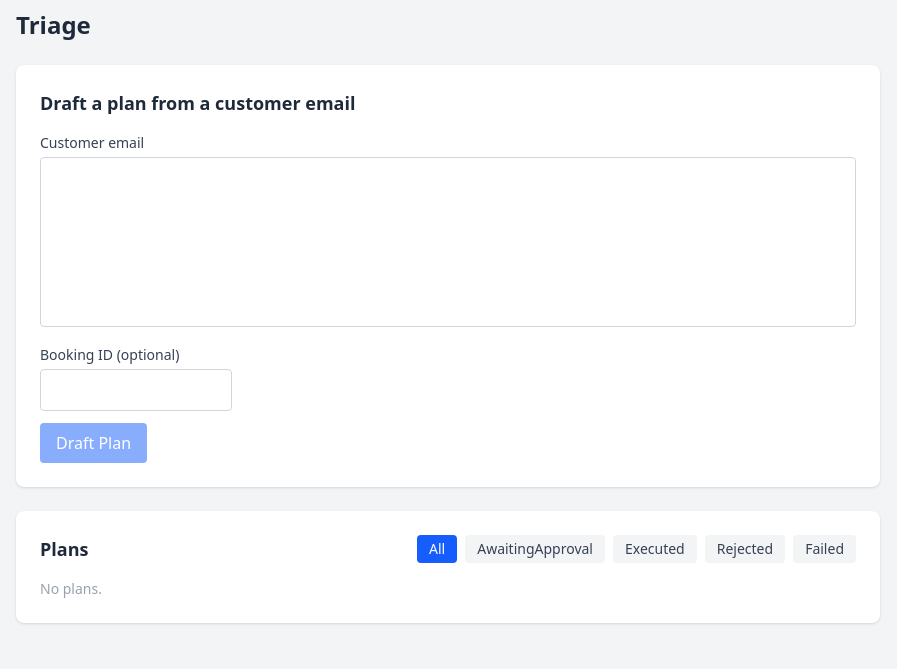
it: drafting a plan › shows an error if drafting fails
The image size is (897, 669).
In the text box labelled "Customer email": (448, 242) x1=40 y1=157 x2=856 y2=327, type "Hello"
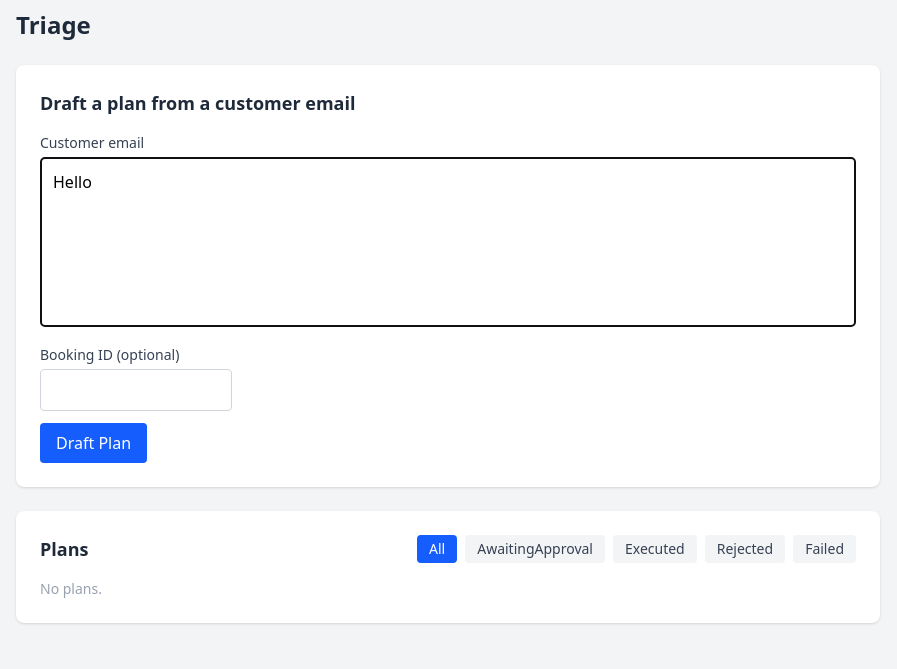
Click the button "Draft Plan": (94, 443) x1=40 y1=423 x2=147 y2=463
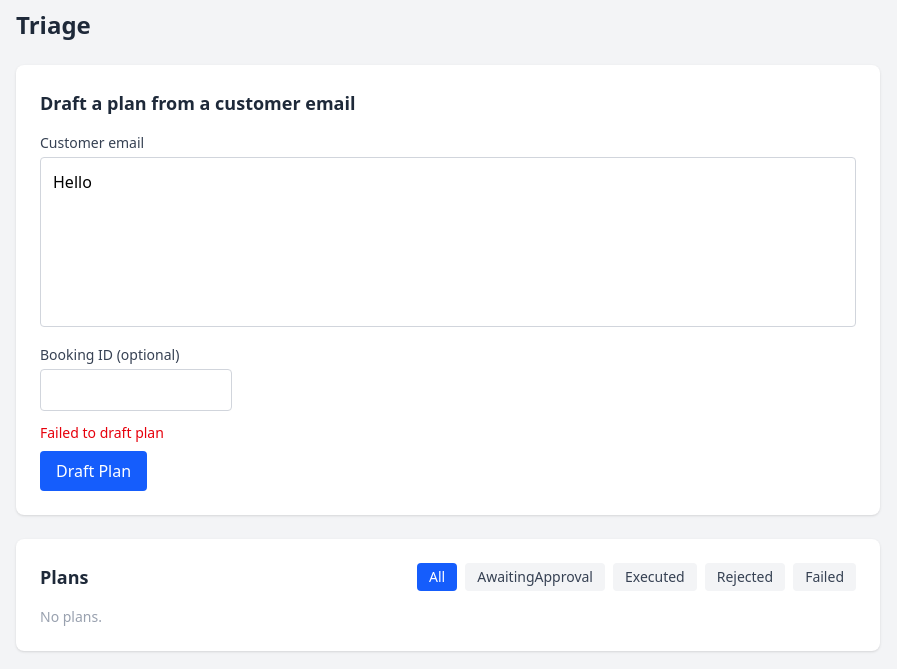
Result: the text "Failed to draft plan" is shown at x1=40 y1=423 x2=164 y2=442
